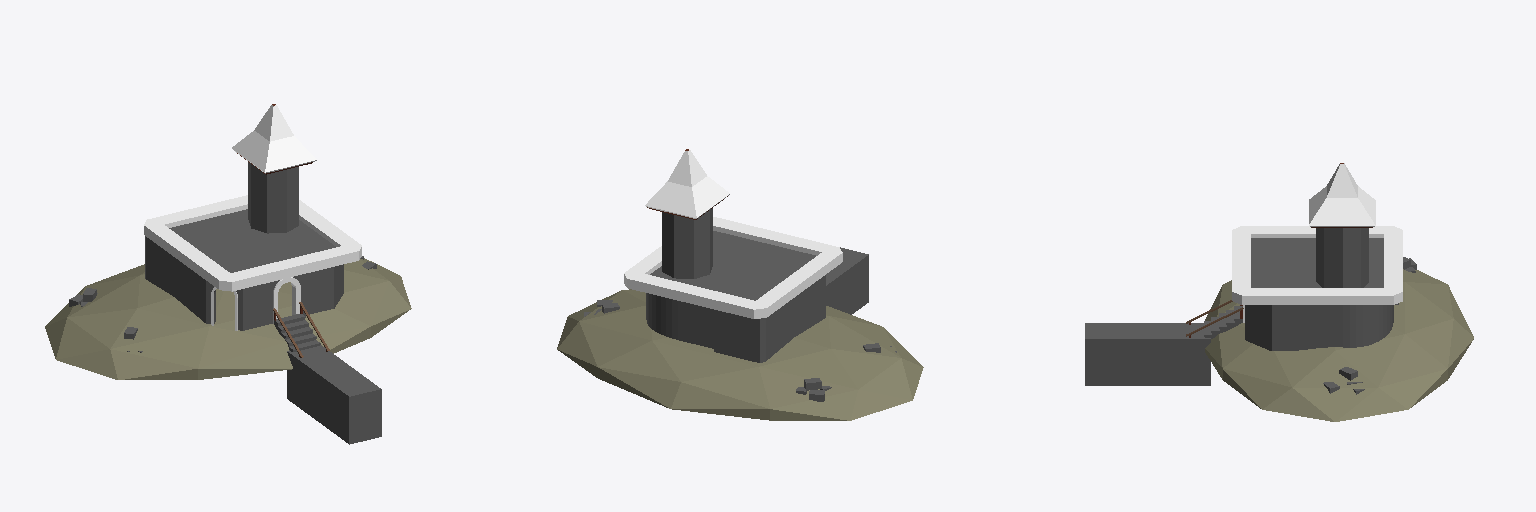
The model's file is town1.obj.
The picture shows the model from 3 angles: view 1: azimuth 30°, elevation 25°; view 2: azimuth 150°, elevation 25°; view 3: azimuth 270°, elevation 25°; orthographic projection.
Visible parts, largest first — view 1: mergedBlocks; view 2: mergedBlocks; view 3: mergedBlocks.
Boxes of the visible parts, x1=… form: mergedBlocks: x1=45, y1=104, x2=411, y2=444; mergedBlocks: x1=557, y1=149, x2=923, y2=420; mergedBlocks: x1=1085, y1=163, x2=1473, y2=421.
Bounding box in the file's own units: 7.56 × 4.88 × 7.38.